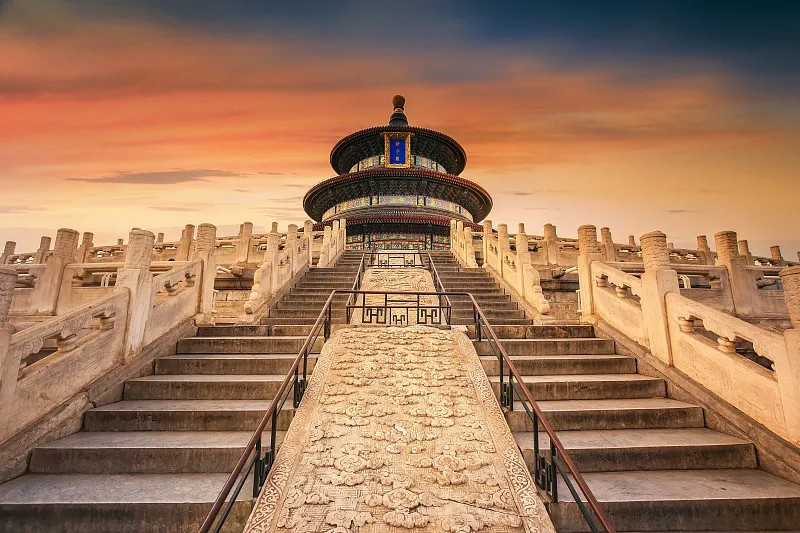Heaven: (304, 96, 492, 249)
